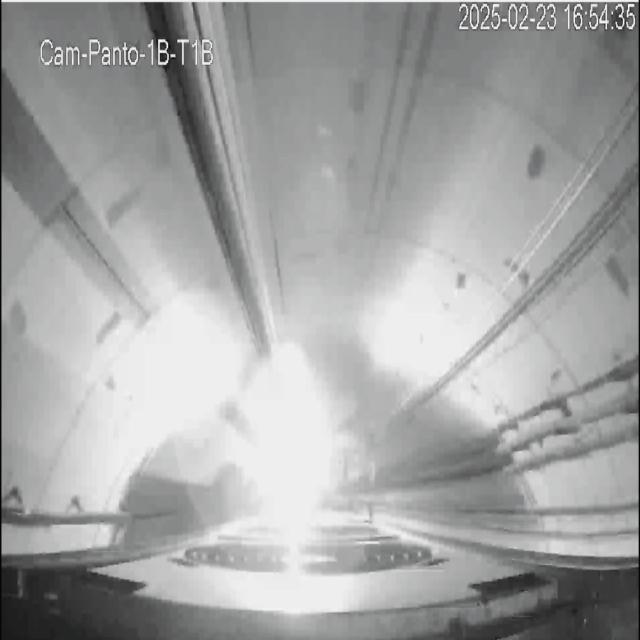Camera Stamp: (37, 31, 222, 71)
Date Stamp: (459, 3, 637, 33)
Sparks: (232, 336, 341, 542)
